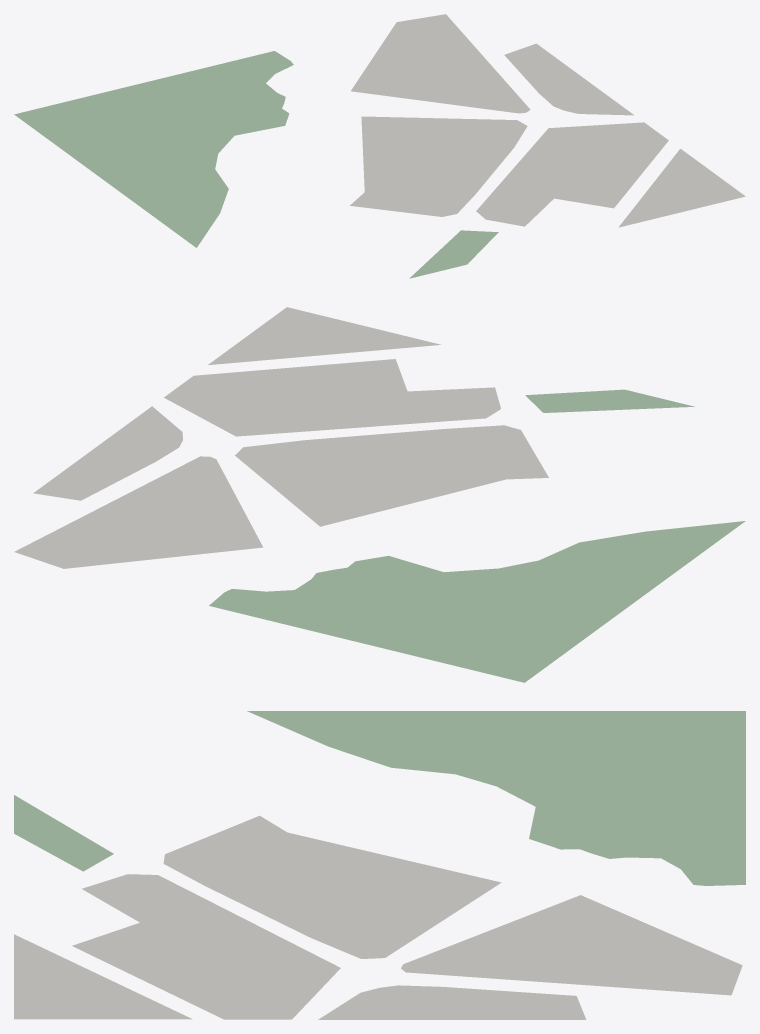
File: 106_109_mid.glb
3 renders of one model, top to bottom at view 1: azimuth 30°, elevation 25°; view 2: azimuth 150°, elevation 25°; view 3: azimuth 270°, elevation 25°, orthographic. The views are drawn at different scales.
Bounding box in the file's own units: 500 × 0.8407 × 500.
